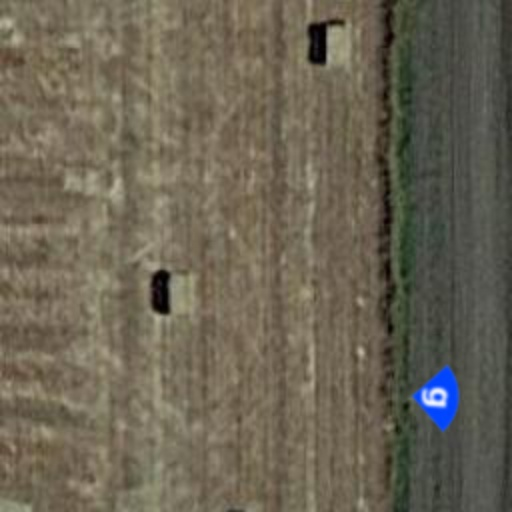quarter_circle: (406, 364, 474, 432)
